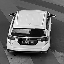mobil: (5, 8, 53, 54)
